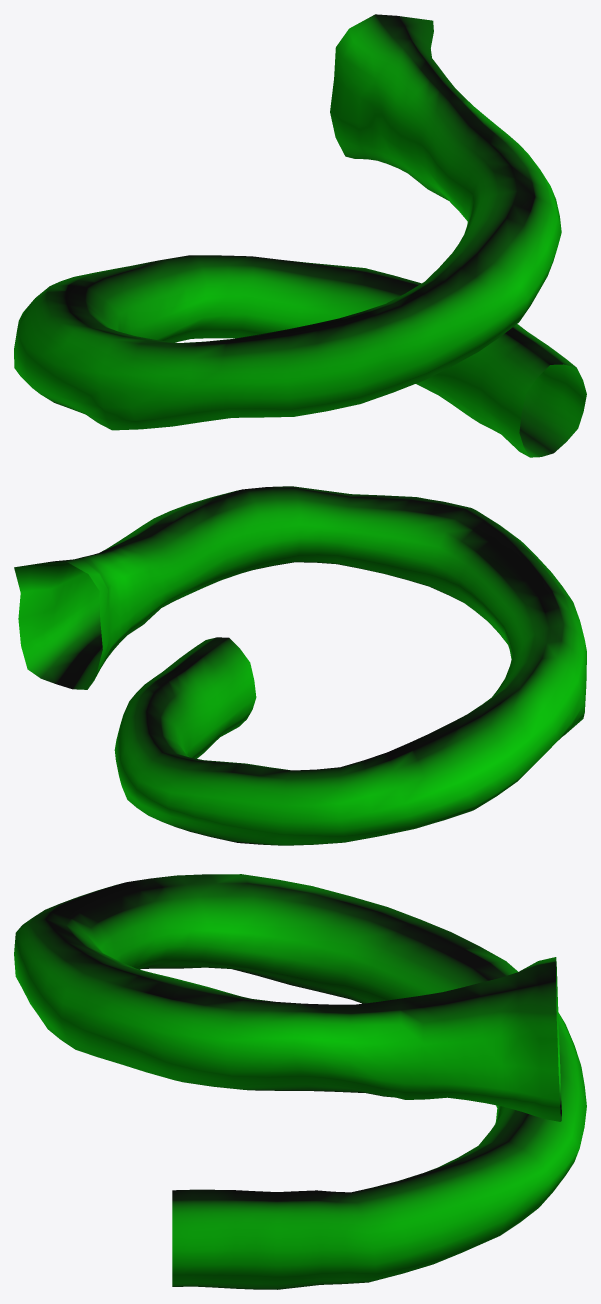
The model's file is cave_entrance_cavern.obj.
The picture shows the model from 3 angles, top to bottom: view 1: azimuth 30°, elevation 25°; view 2: azimuth 150°, elevation 25°; view 3: azimuth 270°, elevation 25°; orthographic projection. The views are drawn at different scales.
Parts seen in each view (by area): view 1: Cavern; view 2: Cavern; view 3: Cavern.
Part boxes in pixels (bbox=[...]): Cavern: bbox=[14, 14, 586, 457]; Cavern: bbox=[14, 486, 586, 845]; Cavern: bbox=[14, 874, 586, 1289].
Size of the model in its own units: 14.49 by 8.64 by 13.64.
